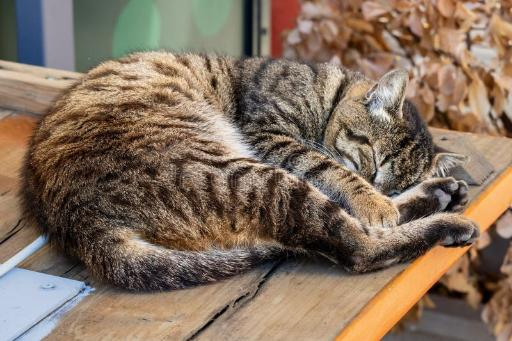cat_sleeping: (21, 51, 479, 289)
